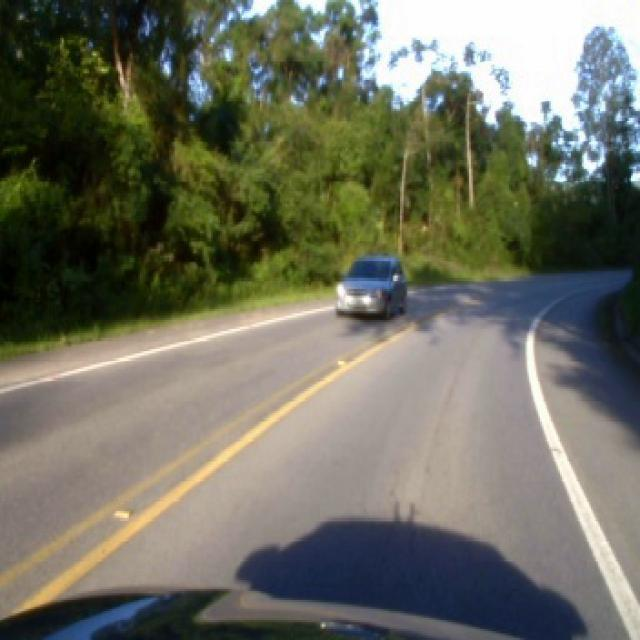Poth-hole: (111, 504, 133, 518), (334, 356, 344, 364)
